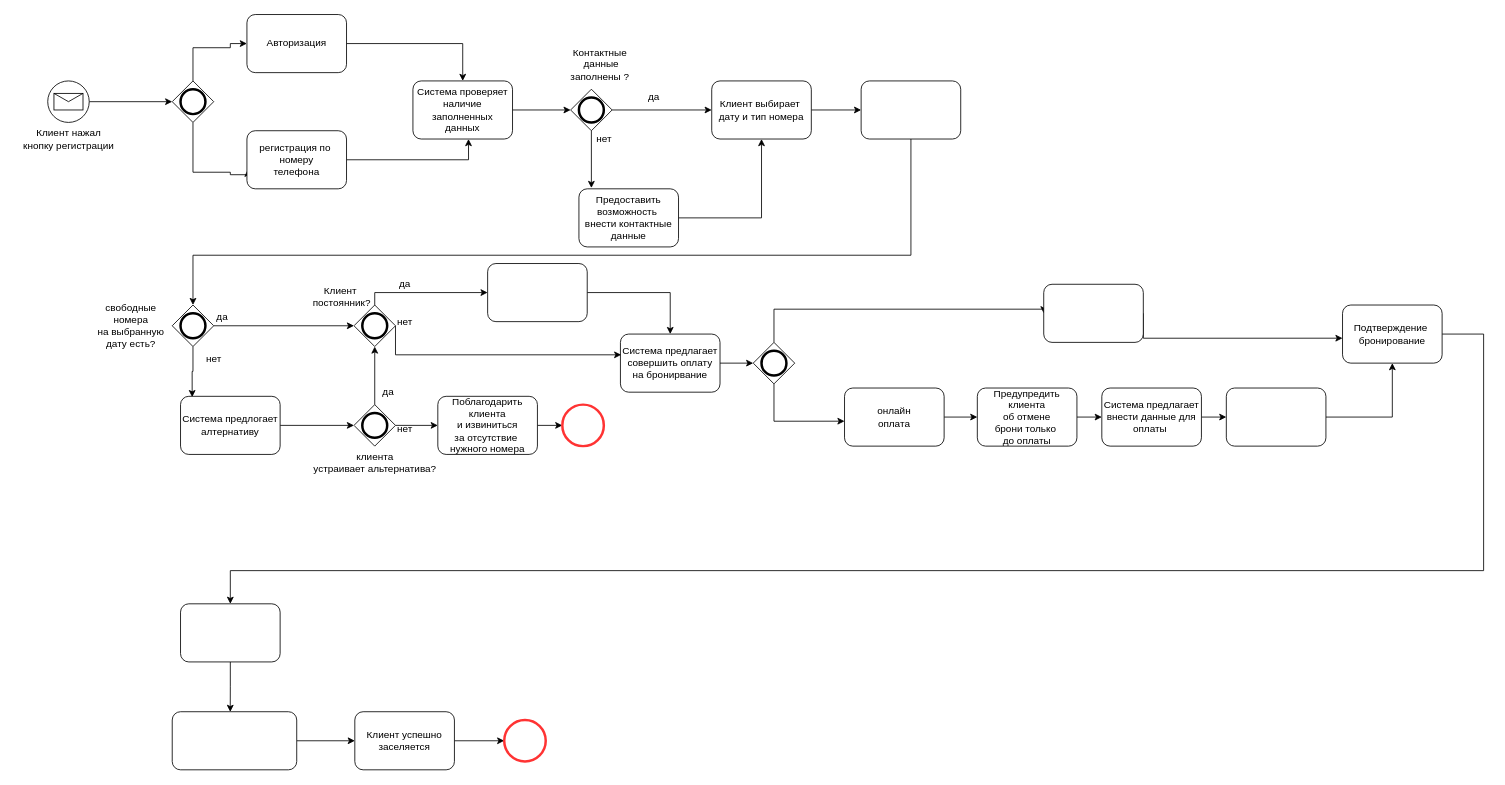
This 1505x785 diagram has some shape labels left out. The centre of each missing label's shape, as x and y in pixels:
"оффлайн оплата" belongs at pixel 1093 312.
"Получение оплаты.." belongs at pixel 1275 416.
"Система направляет информацию в службу бронирования" belongs at pixel 230 632.
"Система предлагает информацию о доступных номерах" belongs at pixel 910 109.
"Система предлагает скидку" belongs at pixel 537 292.
"Система формирует информацию о бронирование и направляет клиенту на эл.почтую" belongs at pixel 234 740.
